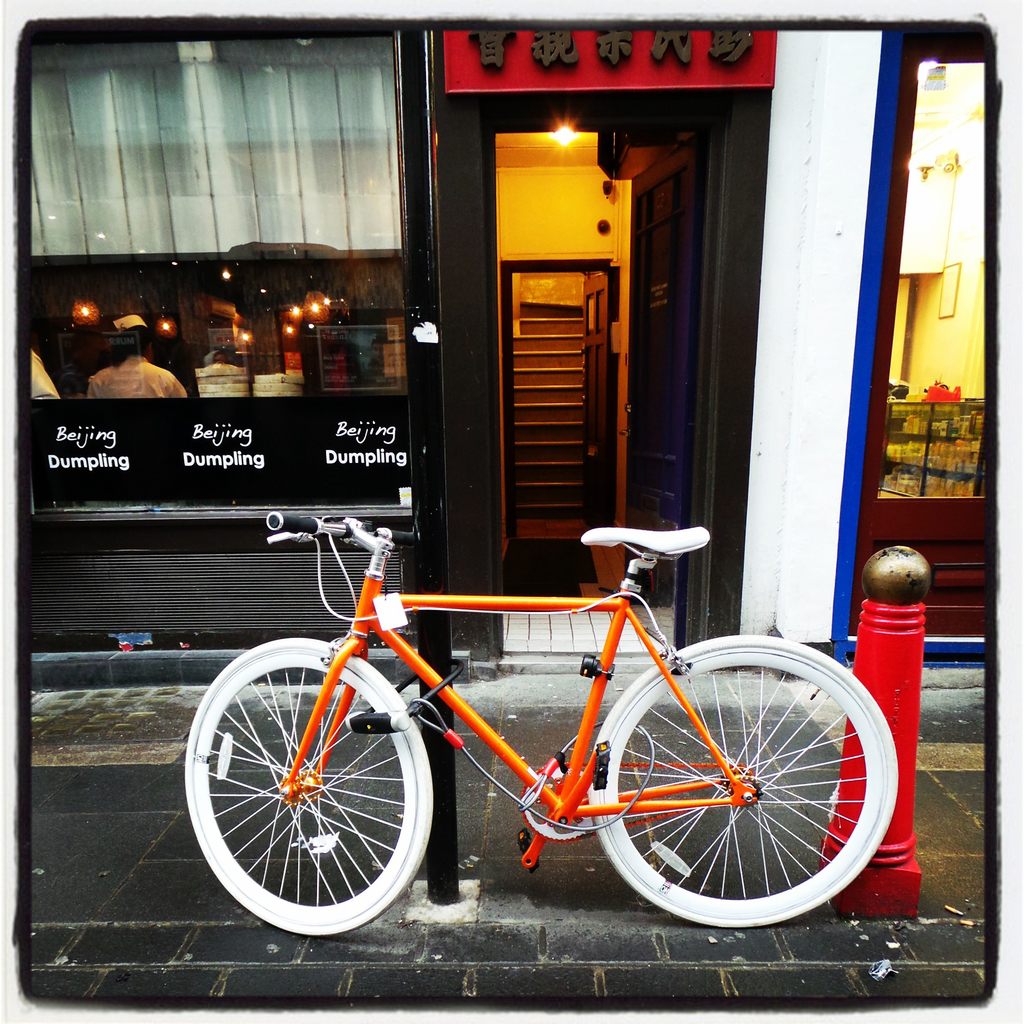Bike: (236, 492, 909, 924)
